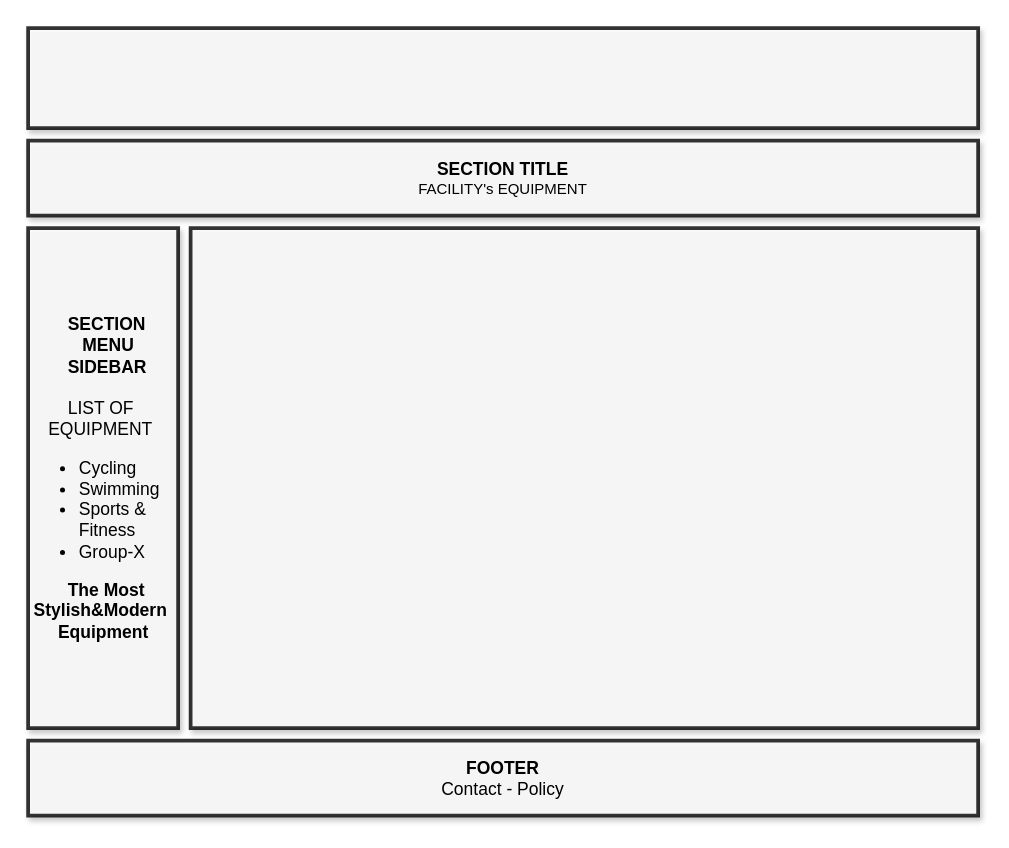
Image size: 1009x848. Some labels were removed from this diagram. Here are the shapes that lost their labels. From the top down, the centre of each, then its label:
At [504,79]: "HEADER (LOGO & NAVIGATION LINKS)".
At [585,479]: "SECTION MAIN VIEW OF EACH CLASS / SALON & SPA".
